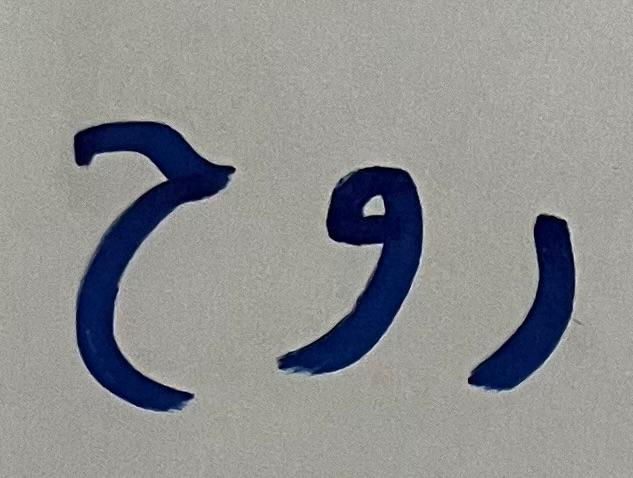hah: (35, 67, 256, 454)
reh: (445, 165, 603, 434)
waw: (266, 143, 440, 409)
